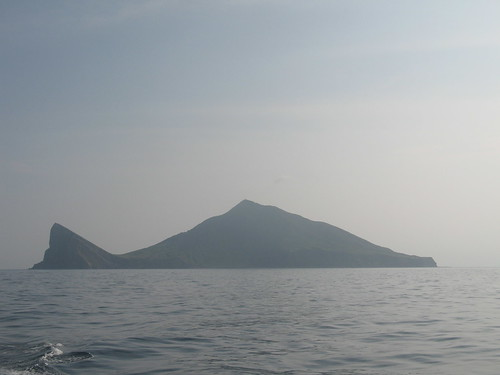turtleIslandLeft: (30, 196, 437, 269)
